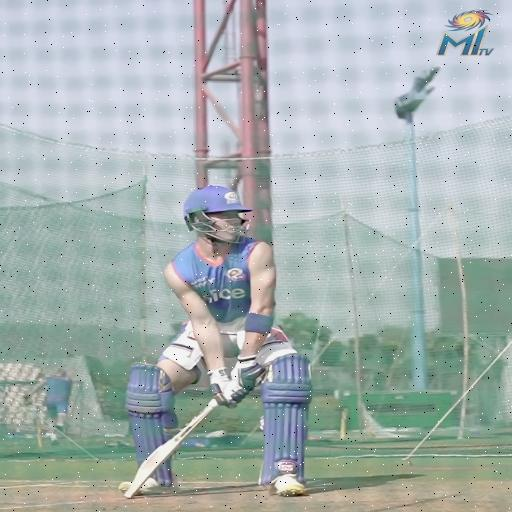Cricket bat: (125, 399, 217, 498)
